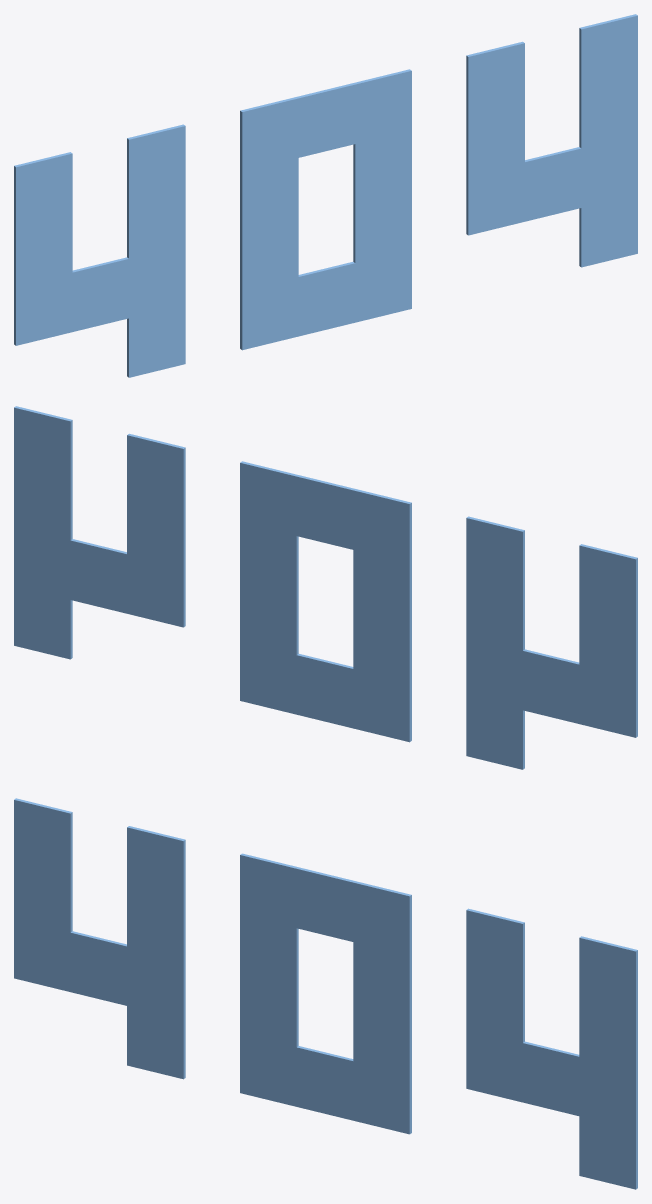
3 renders of one model, top to bottom at view 1: azimuth 30°, elevation 25°; view 2: azimuth 150°, elevation 25°; view 3: azimuth 330°, elevation 25°, orthographic.
Visible parts, largest first — view 1: 404; view 2: 404; view 3: 404.
Part boxes in pixels (left/top/right/bottom): 404: left=14, top=14, right=637, bottom=377; 404: left=14, top=406, right=637, bottom=769; 404: left=14, top=798, right=637, bottom=1189.
Size of the model in its own units: 8.39 by 3.07 by 0.0485.
1 material, 1 textured.
